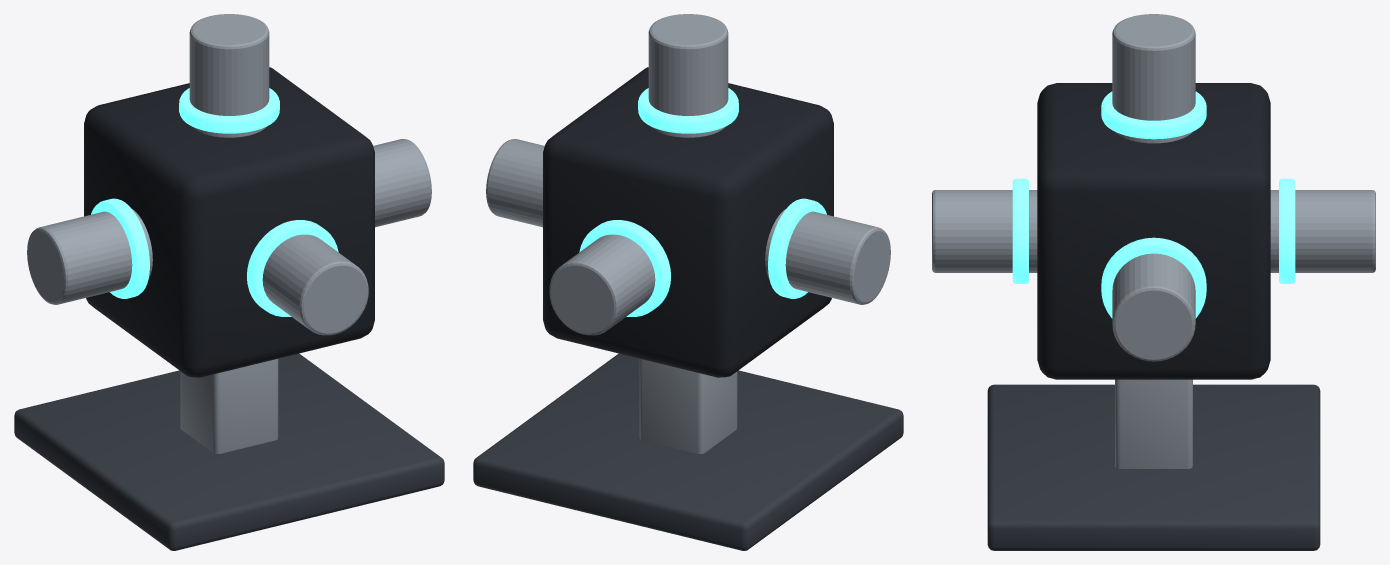
Rendered from rscHub.fbx.
3 renders of one model, left to right at view 1: azimuth 30°, elevation 25°; view 2: azimuth 150°, elevation 25°; view 3: azimuth 270°, elevation 25°, orthographic. The views are drawn at different scales.
Parts seen in each view (by area): view 1: rscHub_hub, rscHub_base, rscHub_plug4, rscHub_plug1, rscHub_plug3, rscHub_stem, rscHub_plug0, rscHub_collar3, rscHub_collar1, rscHub_collar4; view 2: rscHub_hub, rscHub_base, rscHub_plug4, rscHub_plug1, rscHub_plug2, rscHub_stem, rscHub_plug0, rscHub_collar2, rscHub_collar1, rscHub_collar4; view 3: rscHub_hub, rscHub_base, rscHub_plug4, rscHub_plug0, rscHub_plug2, rscHub_plug3, rscHub_stem, rscHub_collar0, rscHub_collar4, rscHub_collar2, rscHub_collar3.
Boxes of the visible parts, <box> form: rscHub_hub: <box>84,67,374,377</box>; rscHub_base: <box>14,353,444,550</box>; rscHub_plug4: <box>189,14,269,137</box>; rscHub_plug1: <box>27,209,152,304</box>; rscHub_plug3: <box>262,234,368,335</box>; rscHub_stem: <box>180,358,278,453</box>; rscHub_plug0: <box>373,139,431,227</box>; rscHub_collar3: <box>247,220,338,316</box>; rscHub_collar1: <box>91,198,149,298</box>; rscHub_collar4: <box>179,88,279,133</box>; rscHub_hub: <box>543,67,833,377</box>; rscHub_base: <box>473,353,903,550</box>; rscHub_plug4: <box>648,14,728,137</box>; rscHub_plug1: <box>765,209,890,304</box>; rscHub_plug2: <box>549,234,655,335</box>; rscHub_stem: <box>639,358,737,453</box>; rscHub_plug0: <box>486,139,544,227</box>; rscHub_collar2: <box>579,220,670,316</box>; rscHub_collar1: <box>768,198,826,298</box>; rscHub_collar4: <box>638,88,738,133</box>; rscHub_hub: <box>1037,83,1270,379</box>; rscHub_base: <box>987,384,1320,550</box>; rscHub_plug4: <box>1112,14,1195,143</box>; rscHub_plug0: <box>1112,253,1195,361</box>; rscHub_plug2: <box>1270,190,1375,272</box>; rscHub_plug3: <box>932,190,1037,272</box>; rscHub_stem: <box>1115,379,1192,468</box>; rscHub_collar0: <box>1101,237,1206,318</box>; rscHub_collar4: <box>1101,91,1206,139</box>; rscHub_collar2: <box>1279,178,1295,283</box>; rscHub_collar3: <box>1012,178,1028,283</box>.
Bounding box in the file's own units: 0.8 × 0.9 × 0.8.
